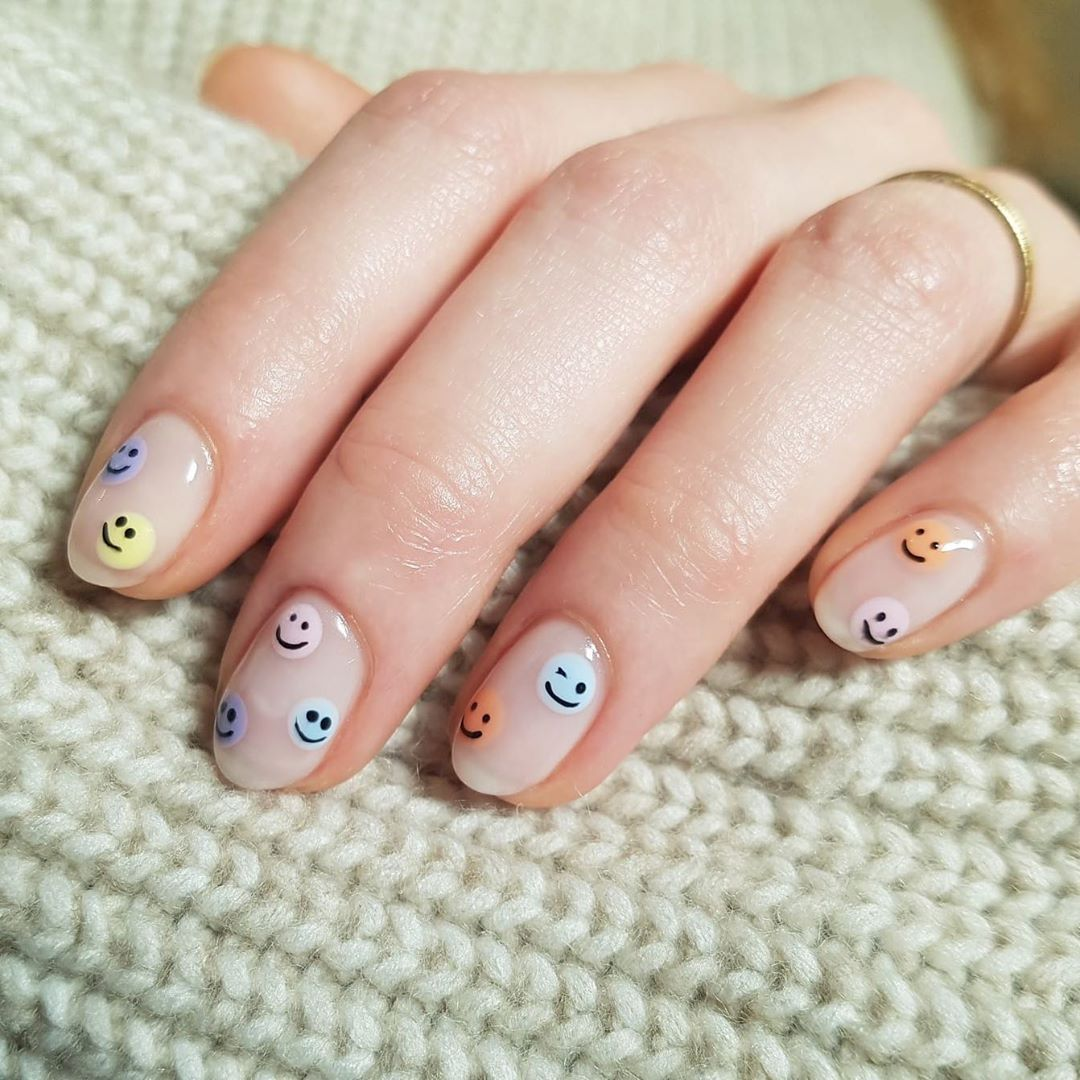nails: (435, 613, 624, 805), (206, 585, 372, 798), (805, 493, 999, 653), (63, 405, 219, 595)
